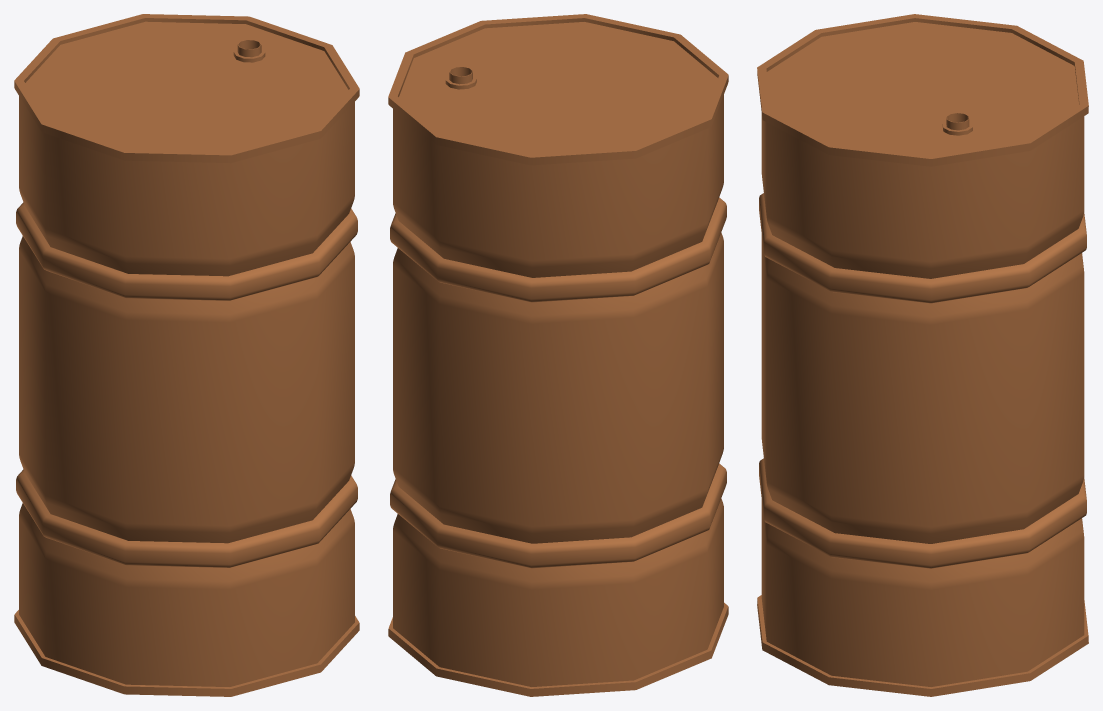
File: Barril.fbx
3 renders of one model, left to right at view 1: azimuth 30°, elevation 25°; view 2: azimuth 150°, elevation 25°; view 3: azimuth 270°, elevation 25°, orthographic.
Parts seen in each view (by area): view 1: Barril_049; view 2: Barril_049; view 3: Barril_049.
Boxes of the visible parts, x1,y1,x2,y2 form: Barril_049: [14, 14, 359, 696]; Barril_049: [388, 14, 728, 696]; Barril_049: [757, 14, 1088, 696].
Bounding box in the file's own units: 41.08 × 72 × 39.69.
